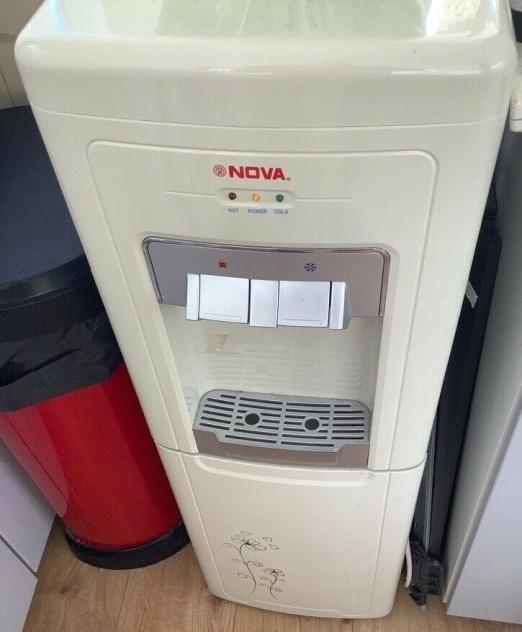Dispenser: (13, 0, 519, 620)
